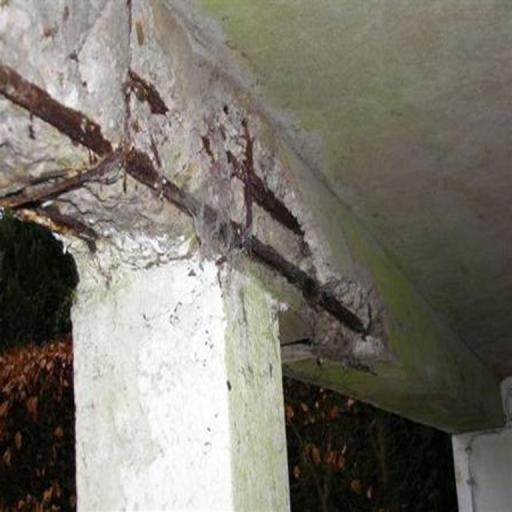spalling: (2, 0, 373, 355)
